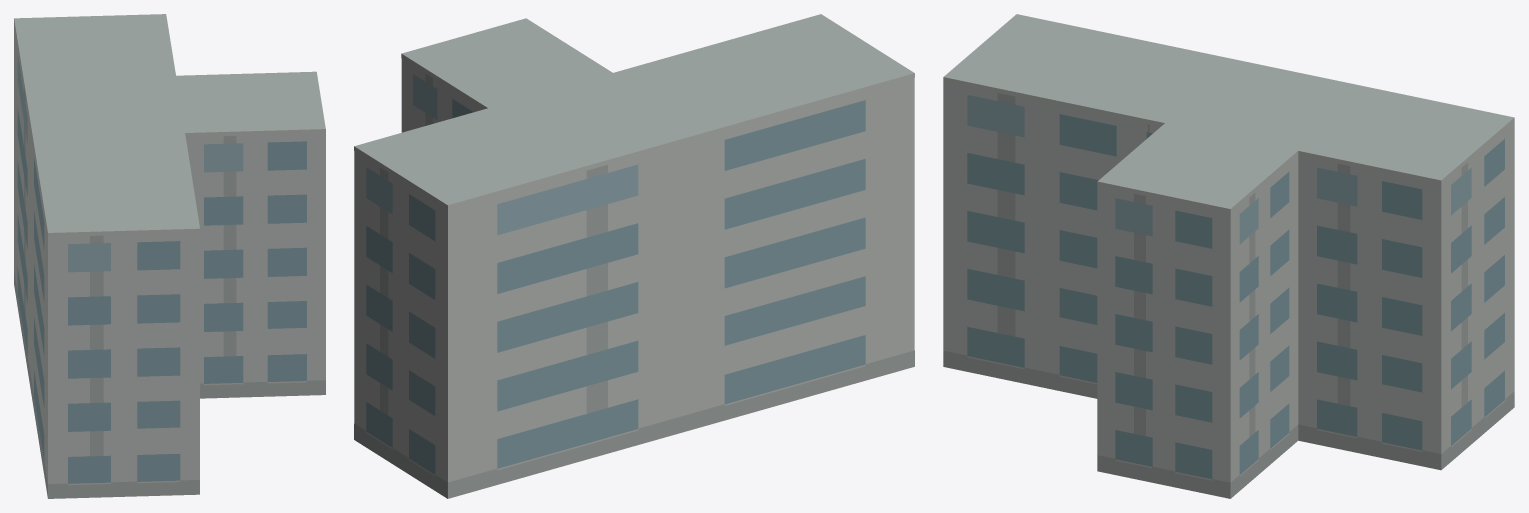
Rendered from residential-1f4f113c-5d23-4cee-a4a0-9415538471fc.glb.
3 renders of one model, left to right at view 1: azimuth 30°, elevation 25°; view 2: azimuth 150°, elevation 25°; view 3: azimuth 270°, elevation 25°, orthographic. The views are drawn at different scales.
Parts seen in each view (by area): view 1: residential-1f4f113c-5d23-4cee-a4a0-9415538471fc.tmp; view 2: residential-1f4f113c-5d23-4cee-a4a0-9415538471fc.tmp; view 3: residential-1f4f113c-5d23-4cee-a4a0-9415538471fc.tmp.
Part boxes in pixels (<box>): residential-1f4f113c-5d23-4cee-a4a0-9415538471fc.tmp: <box>14,14,325,498</box>; residential-1f4f113c-5d23-4cee-a4a0-9415538471fc.tmp: <box>354,14,914,498</box>; residential-1f4f113c-5d23-4cee-a4a0-9415538471fc.tmp: <box>943,14,1514,498</box>.
Size of the model in its own units: 22.02 by 15.25 by 27.25.
